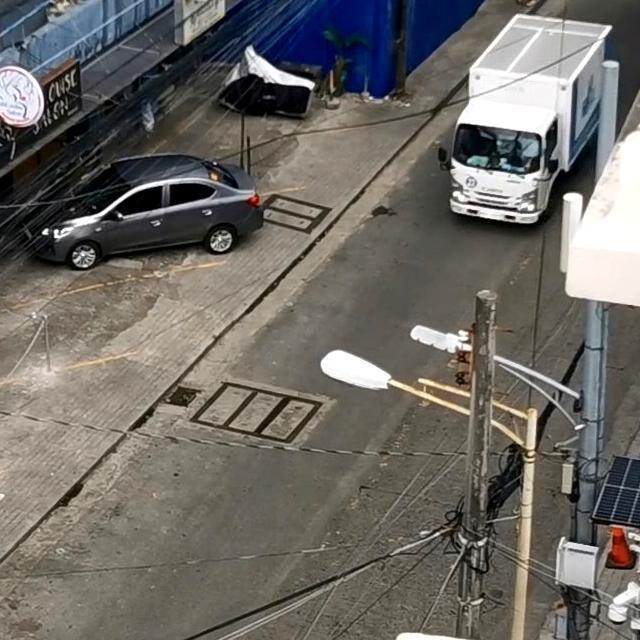Truck: (442, 11, 604, 220)
